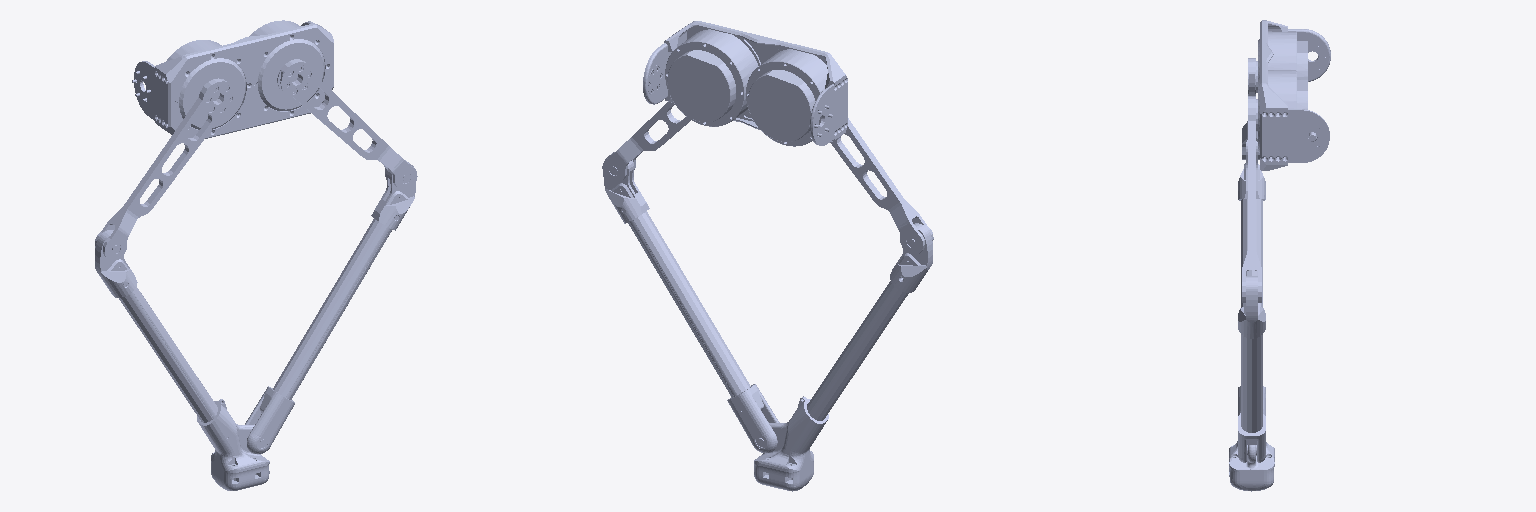
robot.urdf — ntnu_leg:
<?xml version="1.0" encoding="utf-8"?>
<!-- This URDF was automatically created by SolidWorks to URDF Exporter! Originally created by [author] ([email redacted]) 
     Commit Version: 1.6.0-1-g15f4949  Build Version: 1.6.7594.29634
     For more information, please see http://wiki.ros.org/sw_urdf_exporter -->
<robot
  name="ntnu_leg">
  <link name="world"/>

  <link name="main_body">
    <inertial>
      <origin
        xyz="-0.00716131 -0.00065373 0.0070715"
        rpy="-0.0013   0.0004   0.0056" />
      <mass
        value="6.7053012" />
      <inertia
        ixx="0.06193997"
        ixy="0"
        ixz="0"
        iyy="0.21302968"
        iyz="0"
        izz="0.26562956" />
    </inertial>
    <visual>
      <origin
        xyz="0 0 0"
        rpy="0 0 0" />
      <geometry>
        <mesh
          filename="package://ntnu_leg/meshes/body.STL" />
      </geometry>
      <material
        name="">
        <color
          rgba="0.79216 0.81961 0.93333 1" />
      </material>
    </visual>
    <collision>
      <origin
        xyz="0 0 0"
        rpy="0 0 0" />
      <geometry>
        <mesh
          filename="package://ntnu_leg/meshes/body.STL" />
      </geometry>
    </collision>
  </link>

  <joint  name="world_joint" type="fixed">
    <origin
      xyz="0 0 1"
      rpy="0 0 0" />
    <parent link="world" />
    <child  link="main_body" />
  </joint>


  <link
    name="MH">
    <inertial>
      <origin
        xyz="0.091111 0.00024794 -0.030241"
        rpy="0 0 0" />
      <mass
        value="1.4057" />
      <inertia
        ixx="0.0010021"
        ixy="1.1E-06"
        ixz="-7.91E-06"
        iyy="0.004407"
        iyz="-6.01E-06"
        izz="0.0048417" />
    </inertial>
    <visual>
      <origin
        xyz="0 0 0"
        rpy="0 0 0" />
      <geometry>
        <mesh
          filename="package://ntnu_leg/meshes/MH.STL" />
      </geometry>
      <material
        name="">
        <color
          rgba="0.79216 0.81961 0.93333 1" />
      </material>
    </visual>
    <collision>
      <origin
        xyz="0 0 0"
        rpy="0 0 0" />
      <geometry>
        <mesh
          filename="package://ntnu_leg/meshes/MH_collision.STL" />
      </geometry>
    </collision>
  </link>
  <joint
    name="jointMH"
    type="revolute">
    <origin
      xyz="0.1485 -0.105 0"
      rpy="-1.57079632679  0 0" />
    <parent
      link="main_body" />
    <child
      link="MH" />
    <axis
      xyz="1 0 0" />
    <limit
      lower="-3.14159"
      upper="1.57079632679"
      effort="100"
      velocity="1000" />
  </joint>
  <link
    name="link11">
    <inertial>
      <origin
        xyz="0.098421 -0.00092667 -0.00012402"
        rpy="0 0 0" />
      <mass
        value="0.10145" />
      <inertia
        ixx="9.3E-06"
        ixy="2.43E-06"
        ixz="-1.24E-06"
        iyy="0.00050506"
        iyz="1E-08"
        izz="0.00051065" />
    </inertial>
    <visual>
      <origin
        xyz="0 0 0"
        rpy="0 0 0" />
      <geometry>
        <mesh
          filename="package://ntnu_leg/meshes/link11.STL" />
      </geometry>
      <material
        name="">
        <color
          rgba="0.79216 0.81961 0.93333 1" />
      </material>
    </visual>
    <collision>
      <origin
        xyz="0 0 0"
        rpy="0 0 0" />
      <geometry>
        <mesh
          filename="package://ntnu_leg/meshes/link11_collision.STL" />
      </geometry>
    </collision>
  </link>
  <joint
    name="joint11"
    type="revolute">
    <origin
      xyz="0.046 -1.1338E-05 -0.0597"
      rpy="3.1416 0 2.3095" />
    <parent
      link="MH" />
    <child
      link="link11" />
    <axis
      xyz="0 0 1" />
    <limit
      lower="-3.14"
      upper="3.14"
      effort="100"
      velocity="1000" />
  </joint>
  <link
    name="link21">
    <inertial>
      <origin
        xyz="0.20494 -0.021034 -2.714E-05"
        rpy="0 0 0" />
      <mass
        value="0.20117" />
      <inertia
        ixx="3.571E-05"
        ixy="9.52E-05"
        ixz="1.7E-07"
        iyy="0.0018983"
        iyz="-2E-08"
        izz="0.0019089" />
    </inertial>
    <visual>
      <origin
        xyz="0 0 0"
        rpy="0 0 0" />
      <geometry>
        <mesh
          filename="package://ntnu_leg/meshes/link21.STL" />
      </geometry>
      <material
        name="">
        <color
          rgba="0.79216 0.81961 0.93333 1" />
      </material>
    </visual>
    <collision>
      <origin
        xyz="0 0 0"
        rpy="0 0 0" />
      <geometry>
        <mesh
          filename="package://ntnu_leg/meshes/link21_collision.STL" />
      </geometry>
    </collision>
  </link>
  <joint
    name="joint21"
    type="revolute">
    <origin
      xyz="0.18 0 0"
      rpy="0 0 1.3265" />
    <parent
      link="link11" />
    <child
      link="link21" />
    <axis
      xyz="0 0 1" />
    <limit
      lower="-2.85"
      upper="1.58"
      effort="100"
      velocity="1000" />
  </joint>
  <link
    name="link12">
    <inertial>
      <origin
        xyz="0.098201 0.00092745 -0.00012329"
        rpy="0 0 0" />
      <mass
        value="0.10205" />
      <inertia
        ixx="9.34E-06"
        ixy="-2.49E-06"
        ixz="-1.24E-06"
        iyy="0.00050784"
        iyz="-1E-08"
        izz="0.00051346" />
    </inertial>
    <visual>
      <origin
        xyz="0 0 0"
        rpy="0 0 0" />
      <geometry>
        <mesh
          filename="package://ntnu_leg/meshes/link12.STL" />
      </geometry>
      <material
        name="">
        <color
          rgba="0.79216 0.81961 0.93333 1" />
      </material>
    </visual>
    <collision>
      <origin
        xyz="0 0 0"
        rpy="0 0 0" />
      <geometry>
        <mesh
          filename="package://ntnu_leg/meshes/link12_collision.STL" />
      </geometry>
    </collision>
  </link>
  <joint
    name="joint12"
    type="revolute">
    <origin
      xyz="0.136 -1.1338E-05 -0.0597"
      rpy="3.1416 0 0.83482" />
    <parent
      link="MH" />
    <child
      link="link12" />
    <axis
      xyz="0 0 1" />
    <limit
      lower="-3.14"
      upper="3.14"
      effort="100"
      velocity="1000" />
  </joint>
  <link
    name="link22">
    <inertial>
      <origin
        xyz="0.18647 0.0041966 0"
        rpy="0 0 0" />
      <mass
        value="0.13331" />
      <inertia
        ixx="1.73E-05"
        ixy="5.202E-05"
        ixz="0"
        iyy="0.0015703"
        iyz="0"
        izz="0.0015717" />
    </inertial>
    <visual>
      <origin
        xyz="0 0 0"
        rpy="0 0 0" />
      <geometry>
        <mesh
          filename="package://ntnu_leg/meshes/link22.STL" />
      </geometry>
      <material
        name="">
        <color
          rgba="0.79216 0.81961 0.93333 1" />
      </material>
    </visual>
    <collision>
      <origin
        xyz="0 0 0"
        rpy="0 0 0" />
      <geometry>
        <mesh
          filename="package://ntnu_leg/meshes/link22_collision.STL" />
      </geometry>
    </collision>
  </link>
  <joint
    name="joint22"
    type="revolute">
    <origin
      xyz="0.18 0 0"
      rpy="0 0 -1.3233" />
    <parent
      link="link12" />
    <child
      link="link22" />
    <axis
      xyz="0 0 1" />
    <limit
      lower="-1.51"
      upper="2.9"
      effort="100"
      velocity="1000" />
  </joint>

<!-- Add self collision -->
<gazebo reference="link21">
  <selfCollide>true</selfCollide>
</gazebo>
<gazebo reference="link22">
  <selfCollide>true</selfCollide>
</gazebo>


</robot>

--- What the picture shows (computed from the rendered views, not written in the file) ---
Views: 3 orthographic renders of the robot side by side, from view 1: azimuth 30°, elevation 25°; view 2: azimuth 150°, elevation 25°; view 3: azimuth 270°, elevation 25°.
Robot: ntnu_leg — 7 links, 6 joints (5 revolute, 1 fixed); root link world; default pose: all joints at 0.
Visible links, largest first — view 1: MH, link21, link22, link11, link12; view 2: MH, link21, link22, link11, link12; view 3: MH, link22, link21, link12, link11.
Link boxes in pixels (x1,y1,x2,y2): MH: (132, 20, 333, 138); link21: (95, 230, 269, 490); link22: (245, 160, 415, 453); link11: (95, 78, 234, 260); link12: (277, 59, 417, 189); MH: (643, 21, 847, 146); link21: (754, 223, 932, 491); link22: (603, 152, 779, 453); link11: (830, 118, 933, 254); link12: (602, 102, 690, 182); MH: (1258, 20, 1330, 170); link22: (1238, 276, 1265, 462); link21: (1229, 140, 1274, 491); link12: (1242, 96, 1261, 302); link11: (1242, 58, 1259, 159).
Bounding box of the posed robot: 0.3616 × 0.1002 × 0.4782 m (x, y, z).
Meshes: 6 distinct files referenced, 5 mesh visuals loaded (5 binary STL); not drawn: 1 (reference not matched to a file when rendering).
